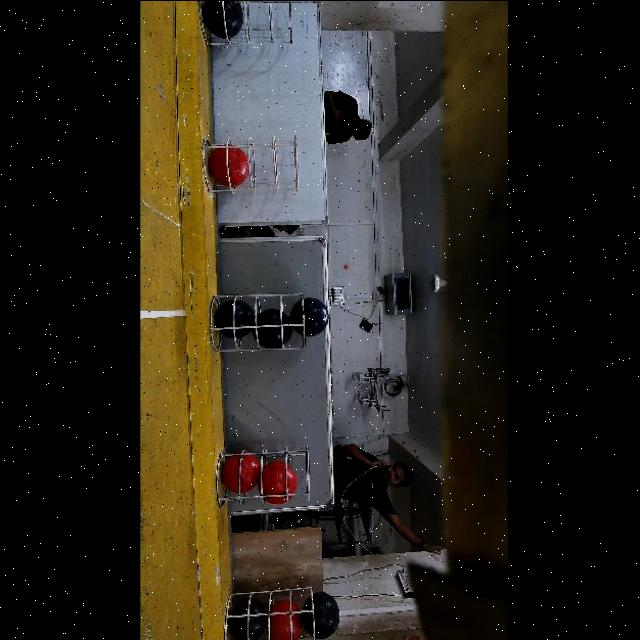P: (229, 597, 267, 640), (300, 594, 339, 635), (201, 0, 243, 38), (253, 308, 292, 348), (289, 297, 329, 336), (215, 299, 254, 338)
R: (209, 146, 248, 188), (220, 453, 259, 492), (260, 461, 296, 503), (268, 600, 305, 640)
S: (222, 576, 316, 640), (213, 292, 305, 352), (212, 455, 304, 509), (220, 134, 302, 192), (204, 0, 296, 50)
